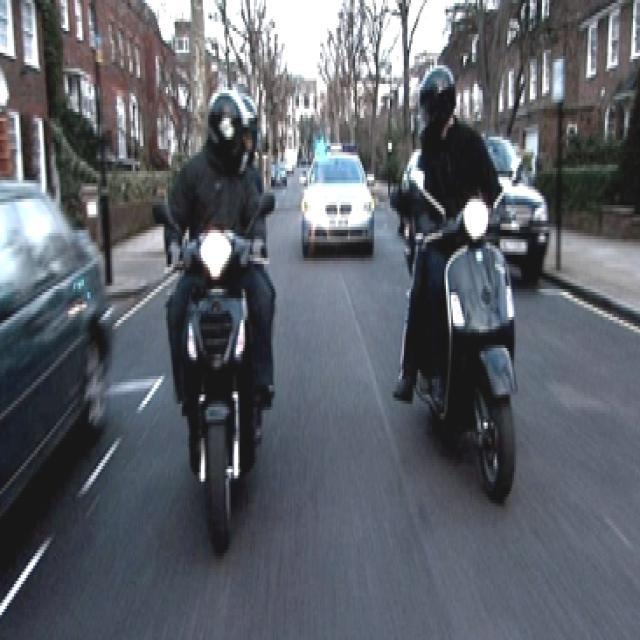Helmet: (203, 71, 257, 174), (418, 46, 460, 140)
